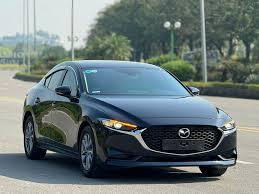mazda: (177, 125, 190, 137)
